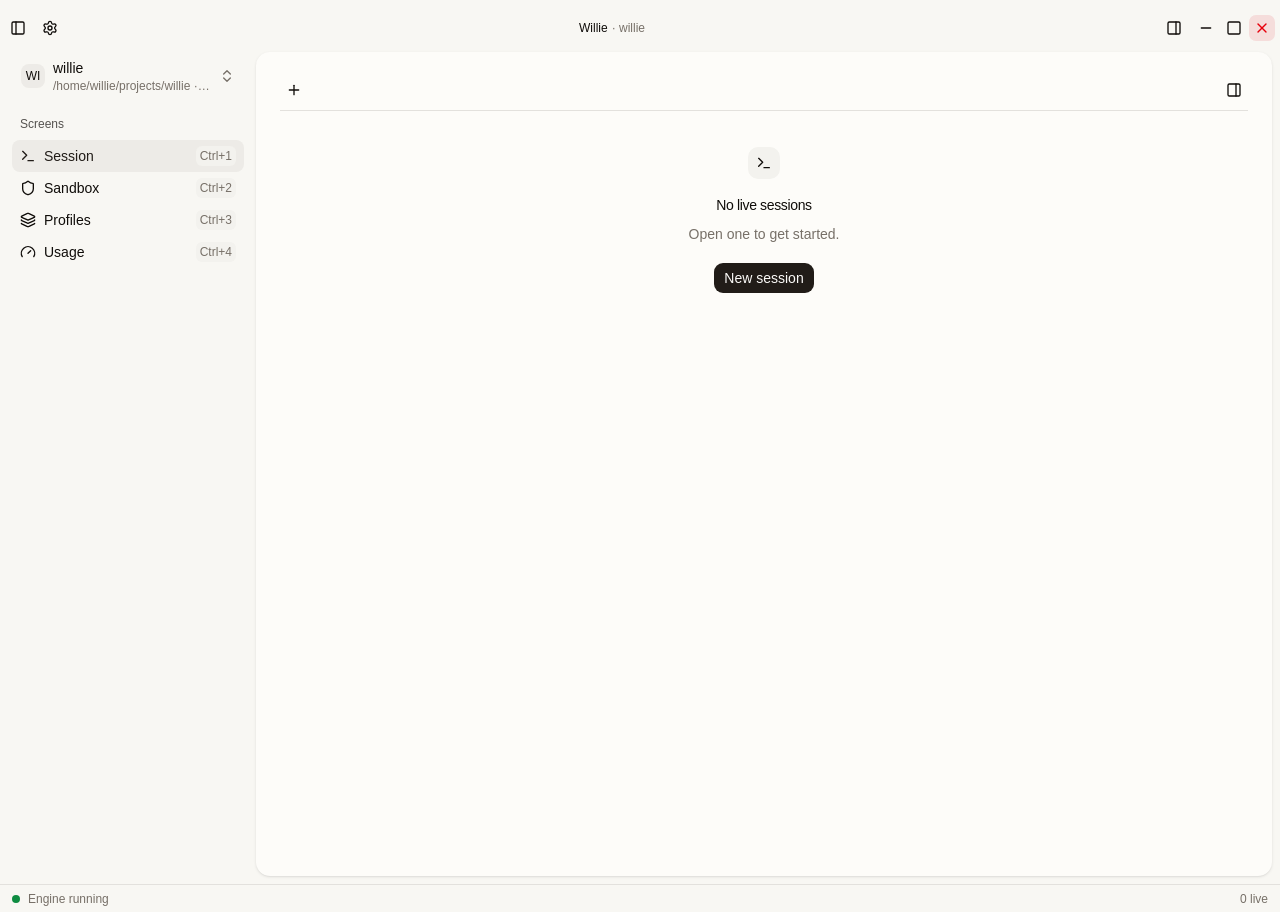
Scenario: the workspace panel › the_tree_lists_the_workspace_with_its_git_status
Click the button named "Workspace panel". click: coordinates (1174, 28)
box: [1160,14,1188,42]
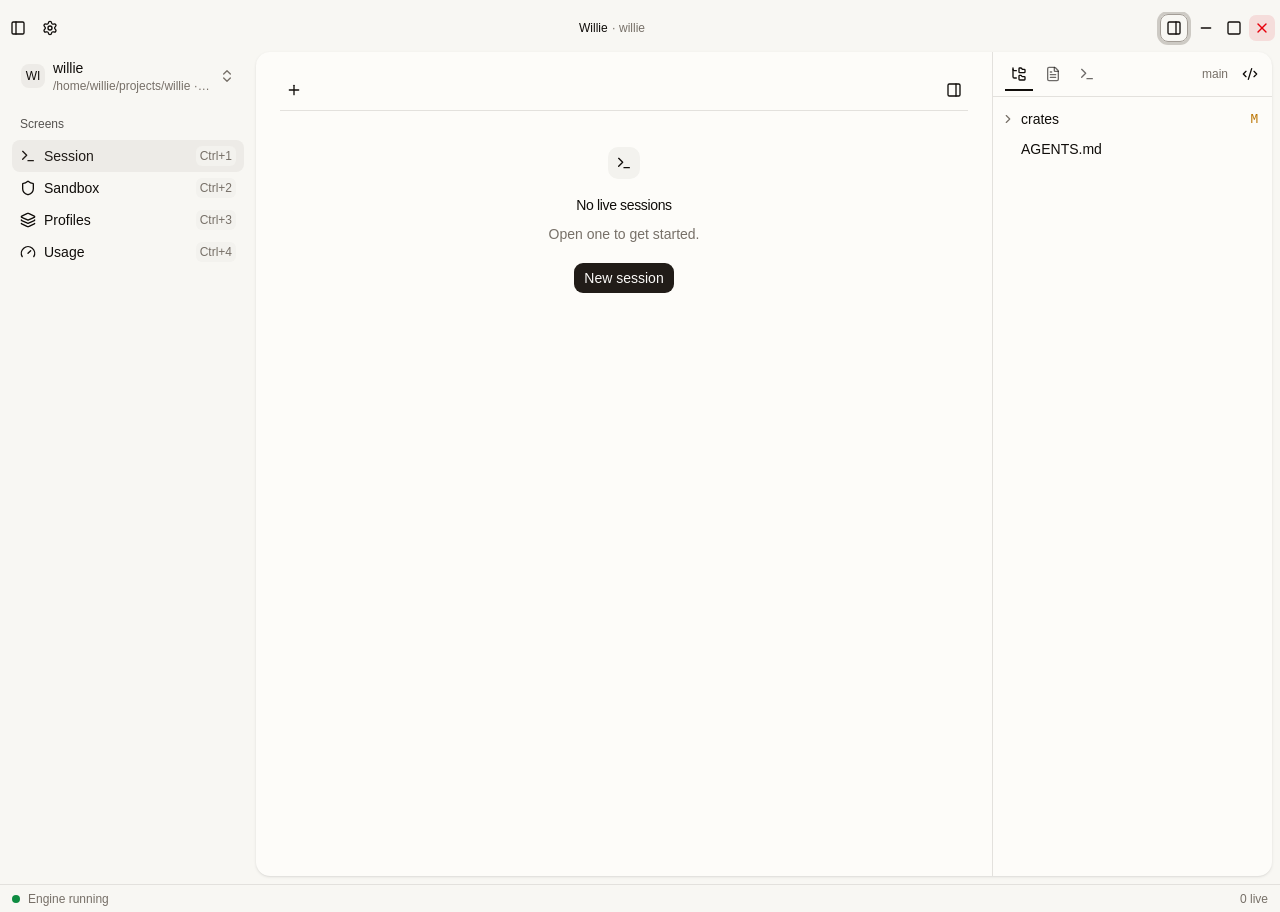
Check: the text "crates" is shown, box [1021,111,1059,127]
Check: the text "AGENTS.md" is shown, box [1021,141,1102,157]
Check: the text "main" is shown, box [1202,66,1228,82]
